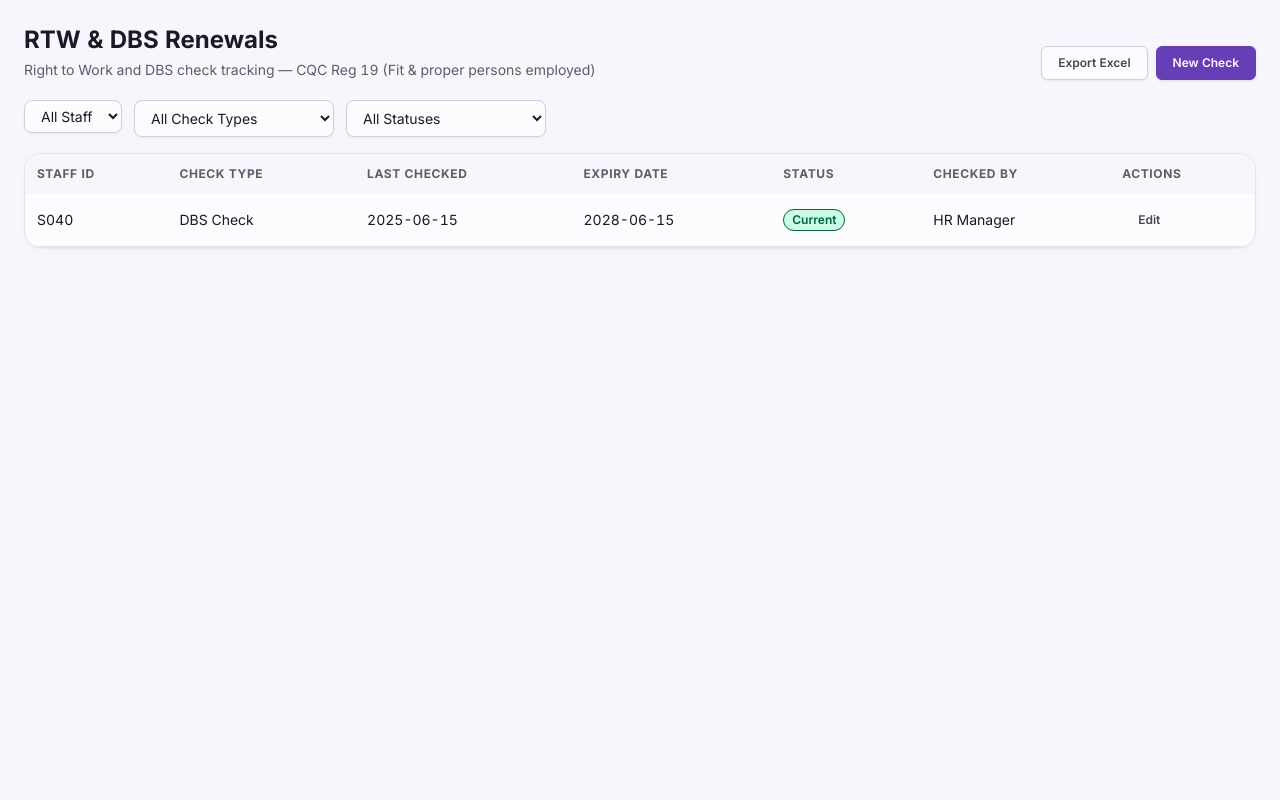
Test case: RtwDbsRenewals › shows the richer DBS and RTW renewal fields in the modal
Click the button "New Check". click: [1206, 63]
box: [1156, 46, 1256, 80]
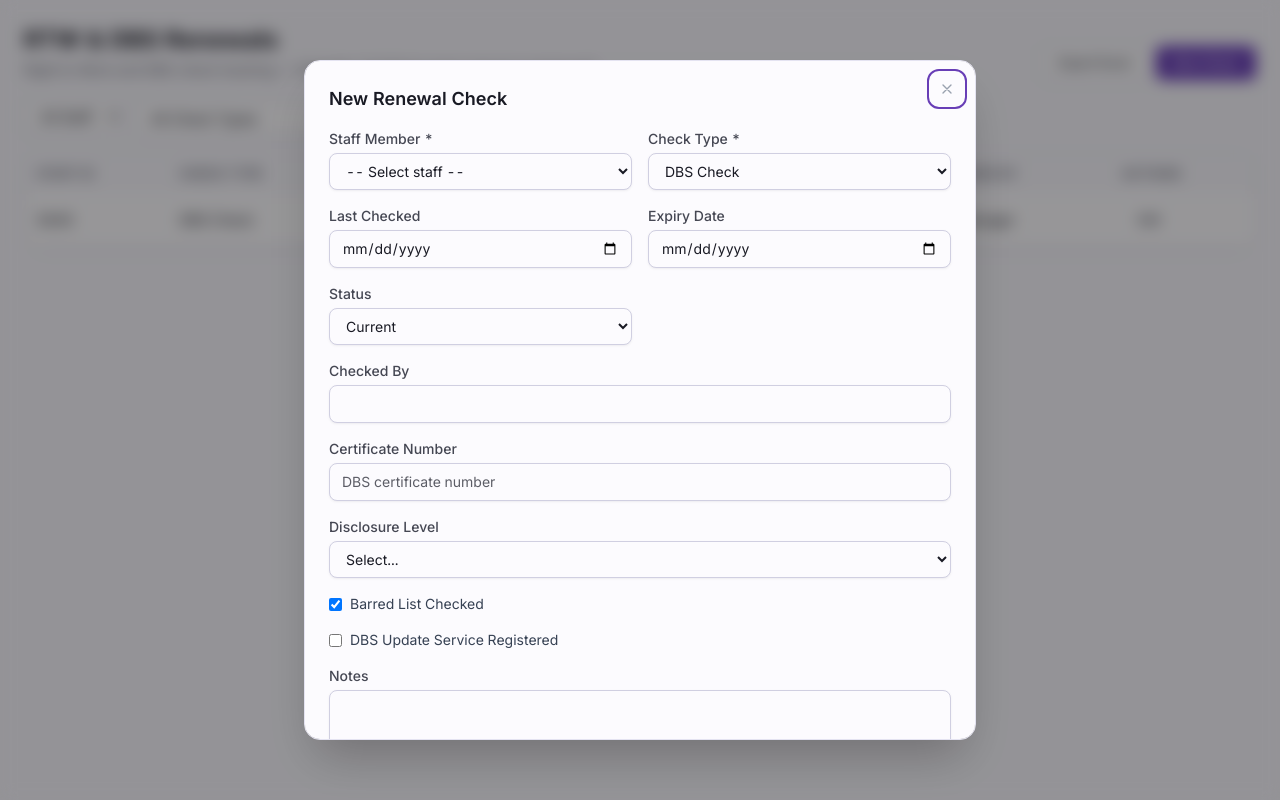
Now the dropdown labelled "Disclosure Level" is shown, box [329, 541, 951, 578]
Now the checkbox labelled "Barred List Checked" is shown, box [329, 598, 342, 610]
Click the checkbox labelled "DBS Update Service Registered". click: [336, 640]
box: [329, 634, 342, 646]
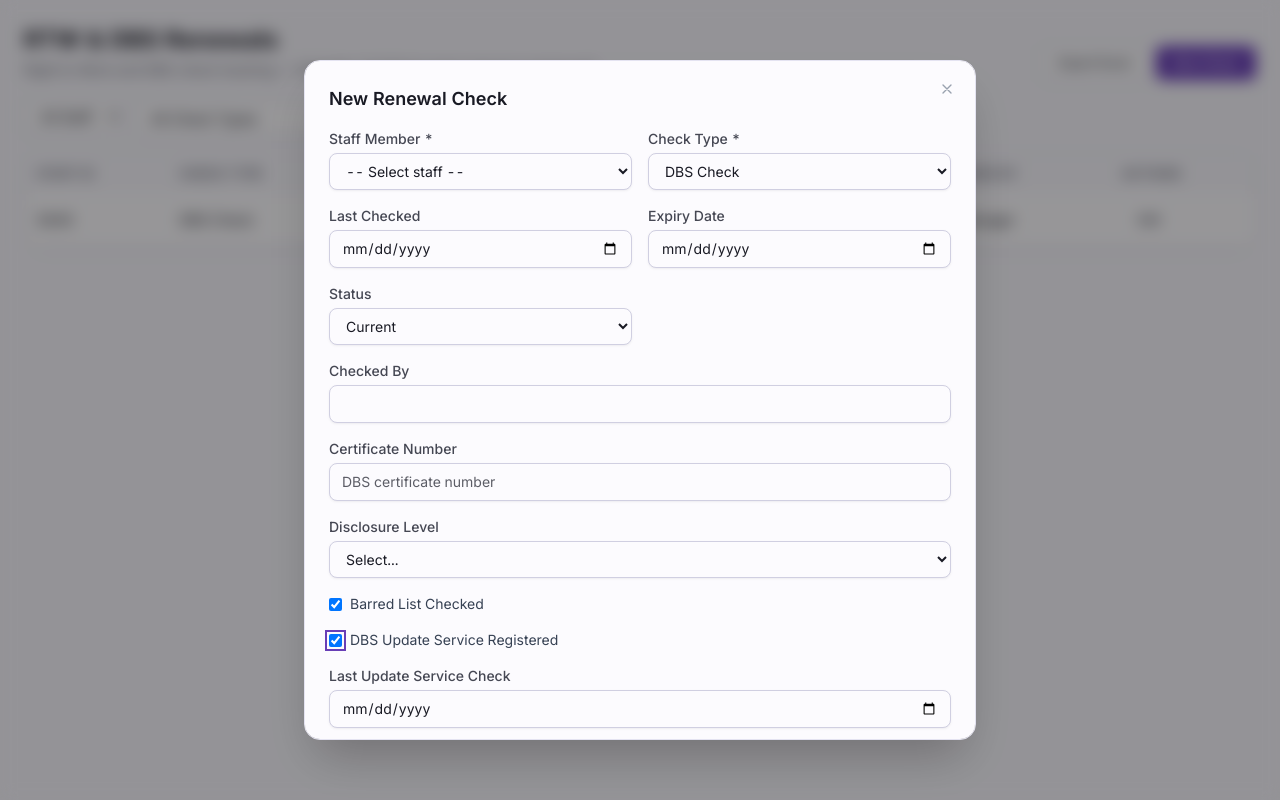
Now the date field labelled "Last Update Service Check" is shown, box [329, 690, 951, 728]
Select "Right to Work" in the dropdown labelled "Check Type *". click: [800, 172]
box: [648, 153, 951, 190]
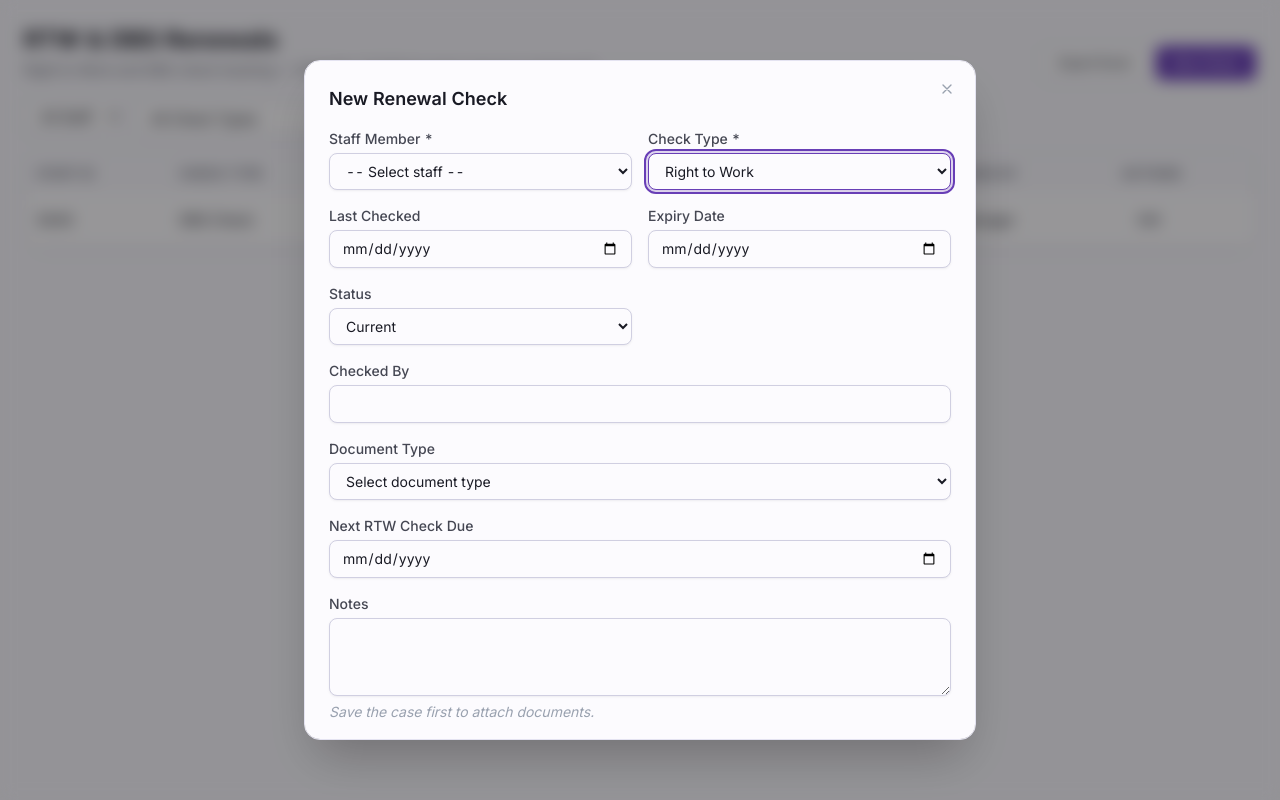
Now the date field labelled "Next RTW Check Due" is shown, box [329, 540, 951, 578]
